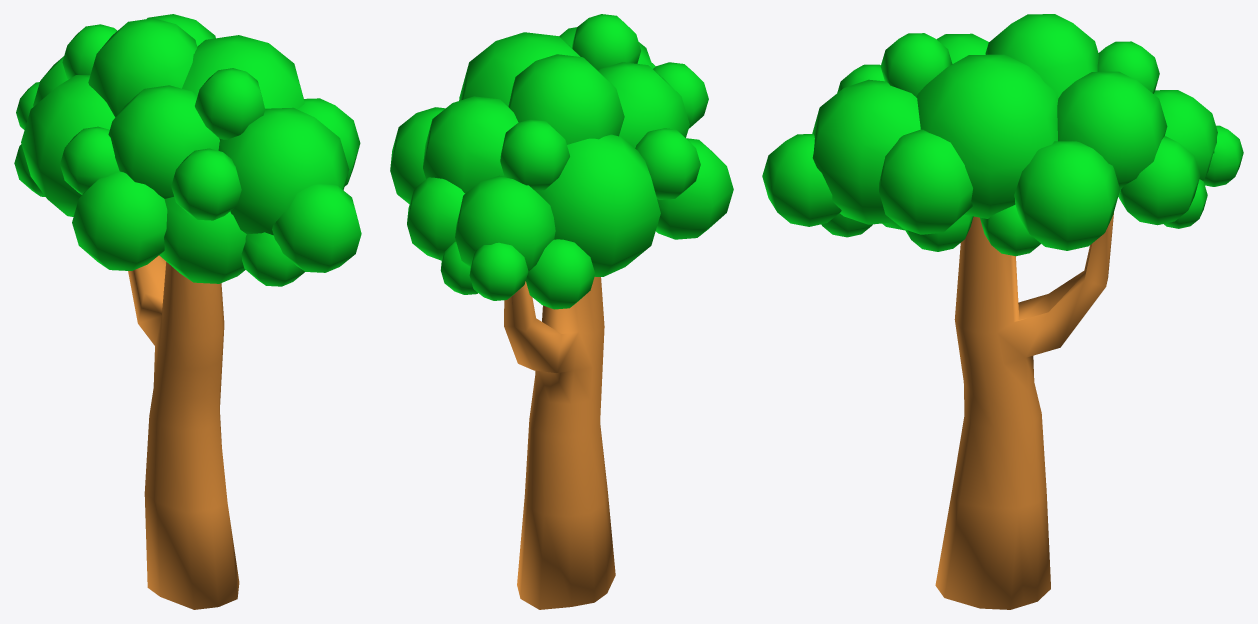
The model's file is TreeNoApple1.fbx.
The picture shows the model from 3 angles, left to right: view 1: azimuth 30°, elevation 25°; view 2: azimuth 150°, elevation 25°; view 3: azimuth 270°, elevation 25°; orthographic projection.
Parts seen in each view (by area): view 1: Circle; view 2: Circle; view 3: Circle.
Part boxes in pixels (box(x1,y1,x2,y2)): Circle: box(14, 14, 361, 609); Circle: box(390, 14, 733, 609); Circle: box(762, 14, 1243, 609).
Bounding box in the file's own units: 869 × 1685 × 1311.
